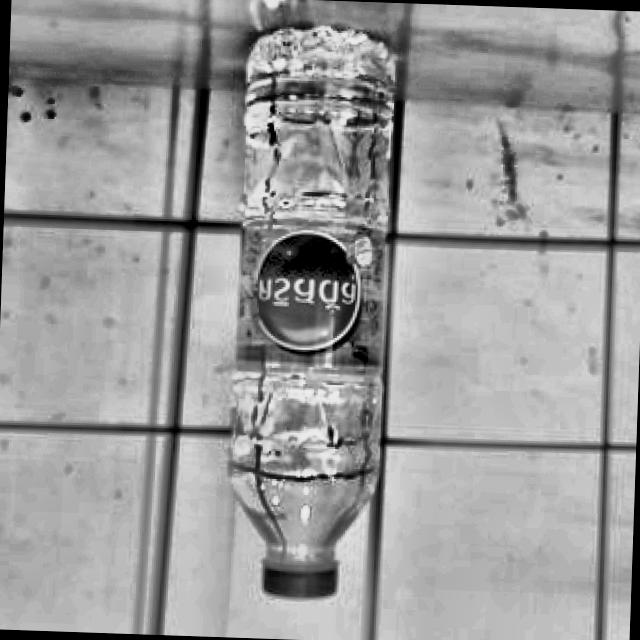waterbottle: (220, 19, 405, 604)
